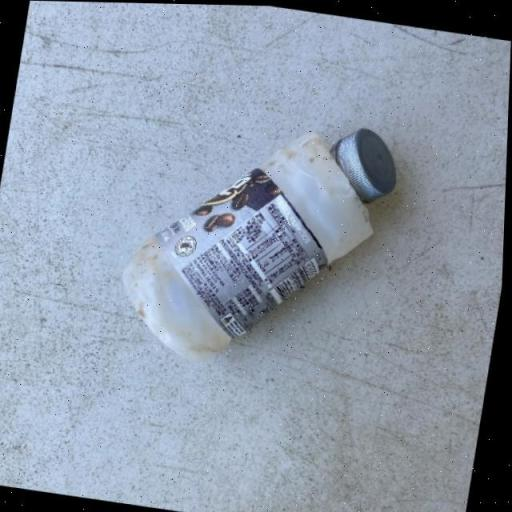plastic: (111, 94, 406, 384)
